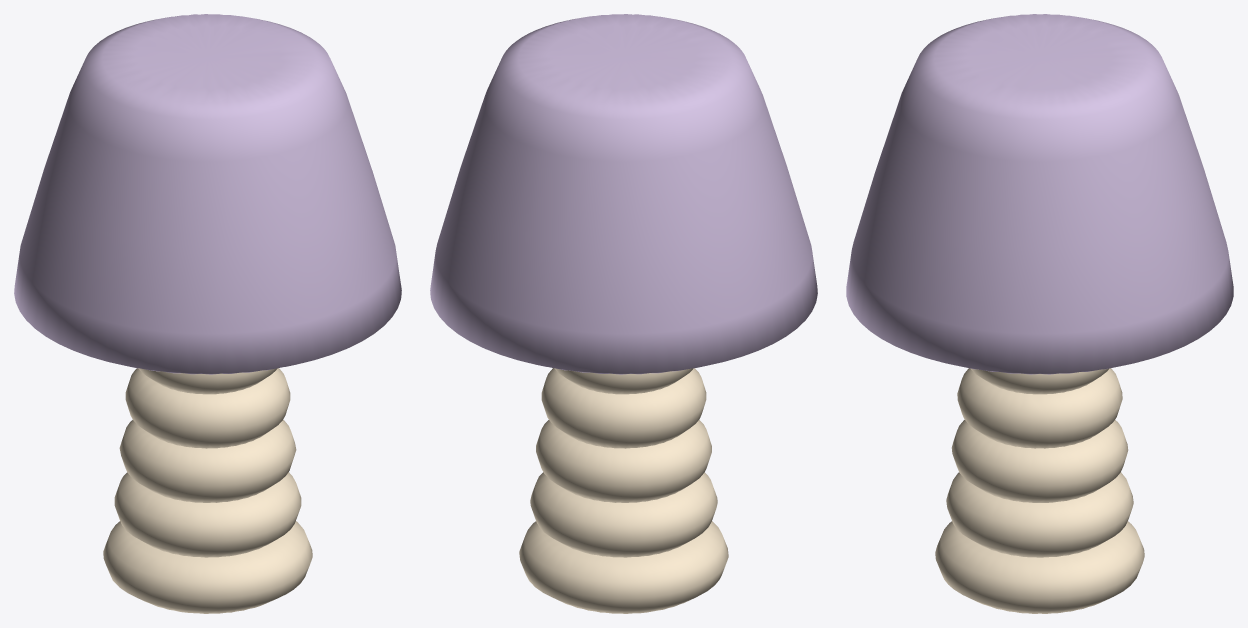
The model's file is lamp_c.glb.
3 renders of one model, left to right at view 1: azimuth 30°, elevation 25°; view 2: azimuth 150°, elevation 25°; view 3: azimuth 270°, elevation 25°, orthographic.
Parts seen in each view (by area): view 1: body; view 2: body; view 3: body.
Part boxes in pixels (left/top/right/bottom): body: left=14, top=14, right=401, bottom=613; body: left=430, top=14, right=817, bottom=613; body: left=846, top=14, right=1233, bottom=613.
Bounding box in the file's own units: 0.3265 × 0.49 × 0.3265.
